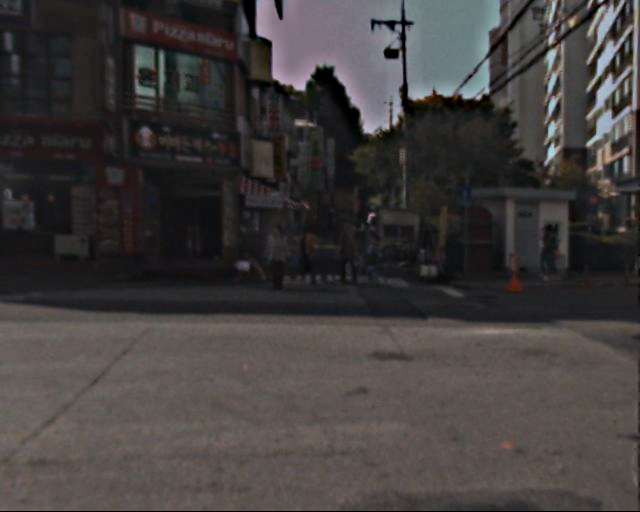person: (338, 226, 364, 290), (236, 223, 262, 286), (263, 227, 288, 288), (540, 227, 564, 285), (298, 223, 319, 274), (361, 220, 384, 264), (364, 244, 383, 291)
